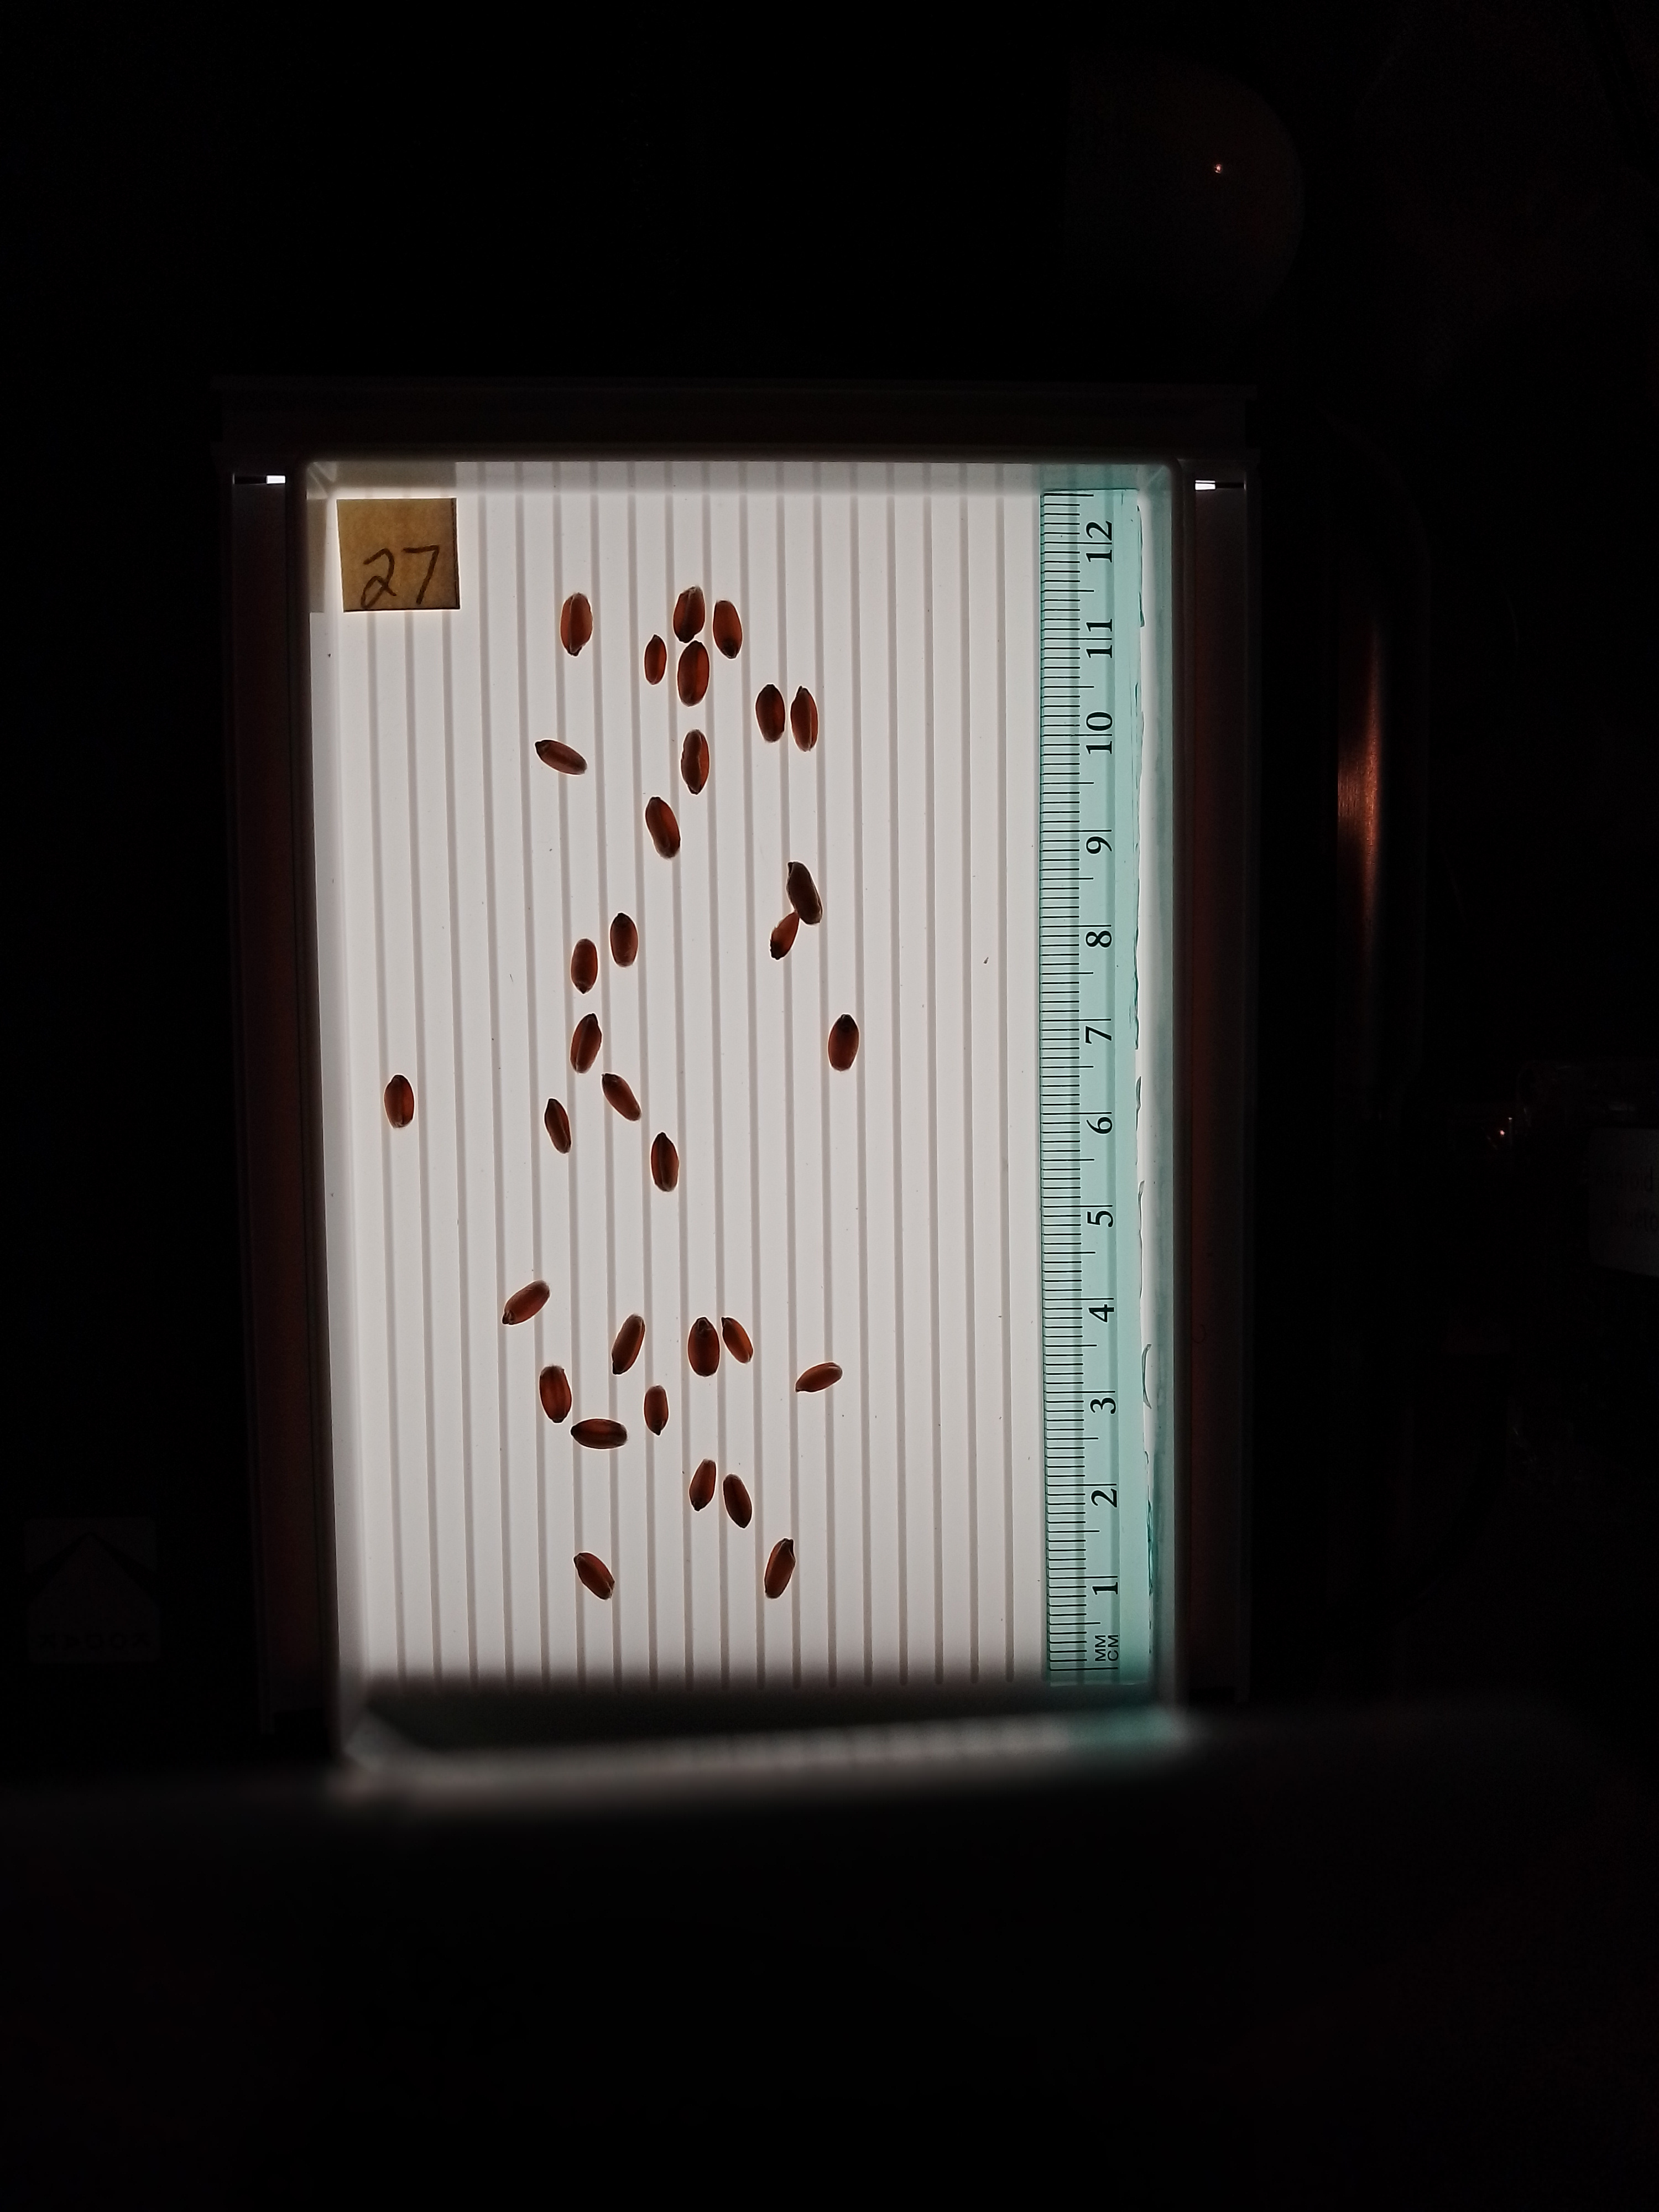seed mask: (786, 860, 823, 925), (645, 796, 681, 859), (674, 641, 709, 705), (559, 594, 594, 657), (502, 1280, 551, 1324), (601, 1073, 643, 1122), (568, 1012, 601, 1073), (789, 688, 821, 751), (673, 587, 708, 643), (688, 1317, 720, 1378), (680, 730, 711, 791), (612, 1317, 645, 1374), (570, 1418, 627, 1451), (575, 1552, 615, 1599), (533, 738, 587, 773), (650, 1132, 680, 1191), (714, 599, 744, 658), (828, 1015, 859, 1071), (765, 1541, 795, 1599), (542, 1366, 572, 1423), (755, 683, 784, 740), (610, 913, 640, 967), (721, 1317, 755, 1364), (385, 1073, 413, 1129), (688, 1458, 716, 1512), (723, 1475, 751, 1529), (544, 1099, 572, 1153), (795, 1362, 842, 1393), (770, 911, 800, 960), (572, 939, 598, 993), (643, 1383, 669, 1433), (643, 634, 666, 685)
